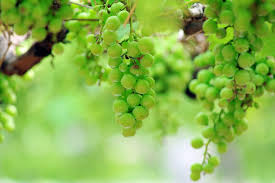grapes: (194, 16, 265, 183), (111, 38, 158, 142)
